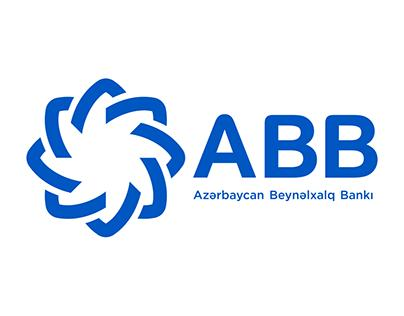ABB: (24, 76, 187, 239)
